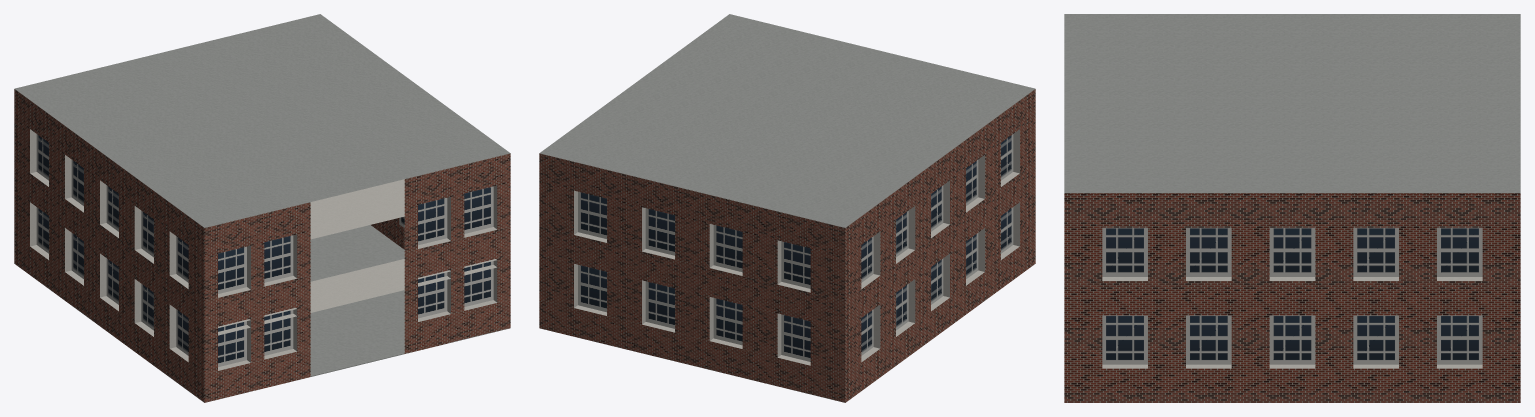
File: bldg-printshop.glb
The picture shows the model from 3 angles, left to right: view 1: azimuth 30°, elevation 25°; view 2: azimuth 150°, elevation 25°; view 3: azimuth 270°, elevation 25°; orthographic projection. The views are drawn at different scales.
Visible parts, largest first — view 1: bldg-printshop; view 2: bldg-printshop; view 3: bldg-printshop.
Boxes of the visible parts, x1=… form: bldg-printshop: x1=14, y1=14, x2=510, y2=402; bldg-printshop: x1=539, y1=14, x2=1035, y2=402; bldg-printshop: x1=1064, y1=14, x2=1520, y2=402.
Size of the model in its own units: 13 by 7.1 by 14.
Materials: 4 (4 with a texture image).
